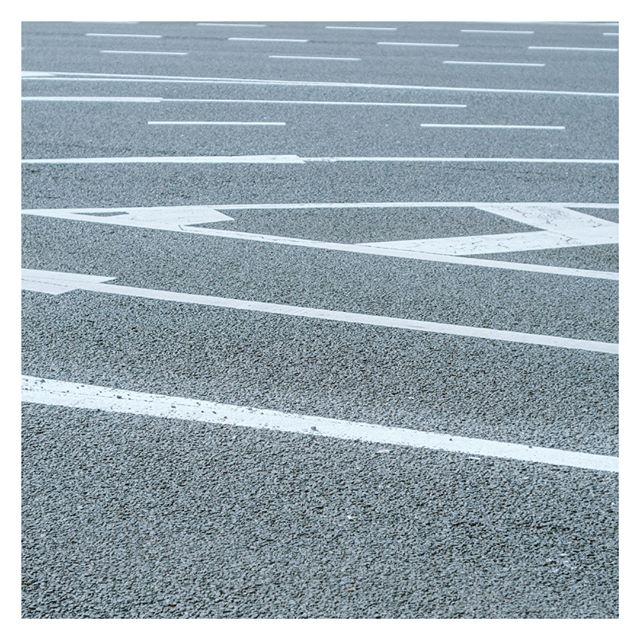street: (24, 26, 640, 640)
